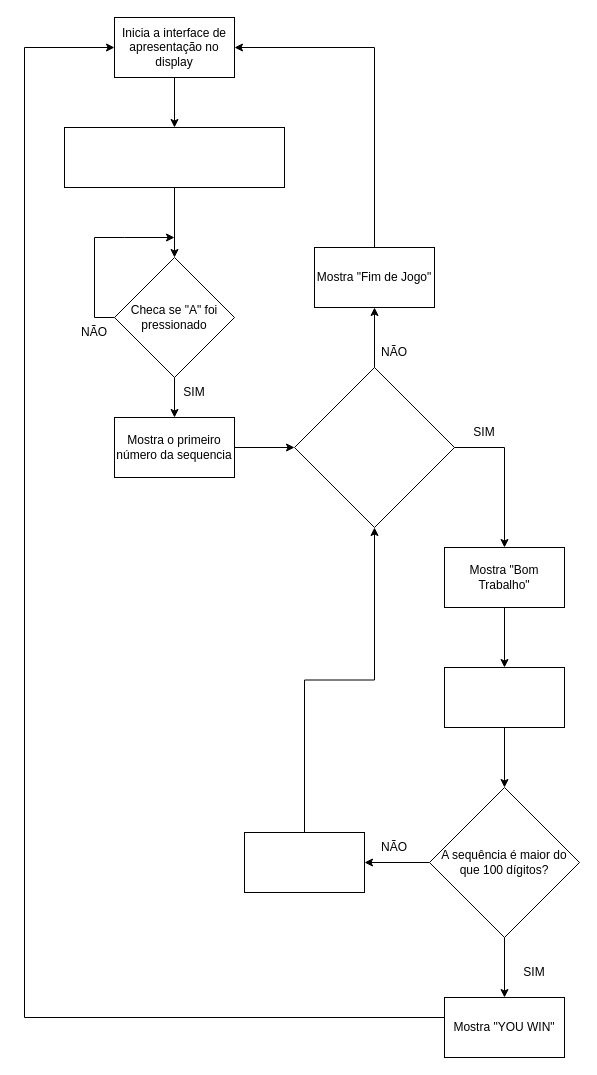
Some shapes in this 597 by 1075 pixel diagram are drawn without their labels. Here are the shapes that lost their labels. From the top down, the box of each, then its label:
(64, 126, 284, 188): Mostra "Jogo da Memória" "|A| para começar"
(294, 366, 454, 528): Checa se o número pressionado pelo usuário foi o mesmo do mostrado
(444, 666, 564, 728): Incrementa a sequência de números mostrada em 1 dígito
(244, 832, 364, 892): Mostra a sequência
